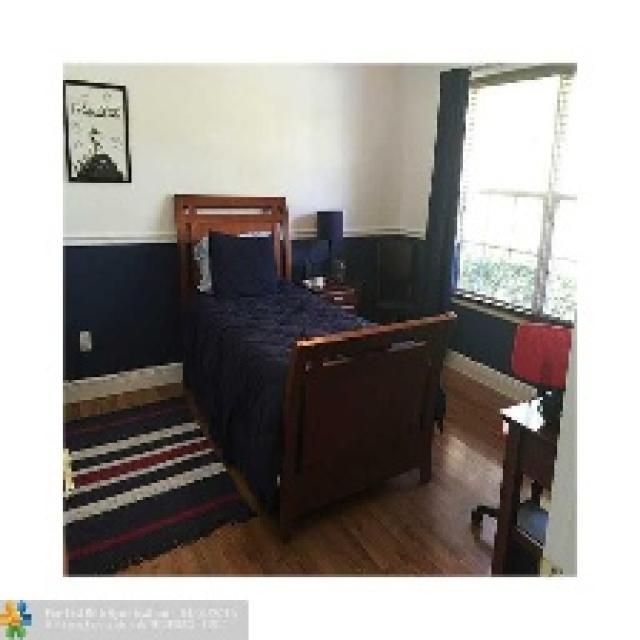Bed: (172, 191, 457, 540)
